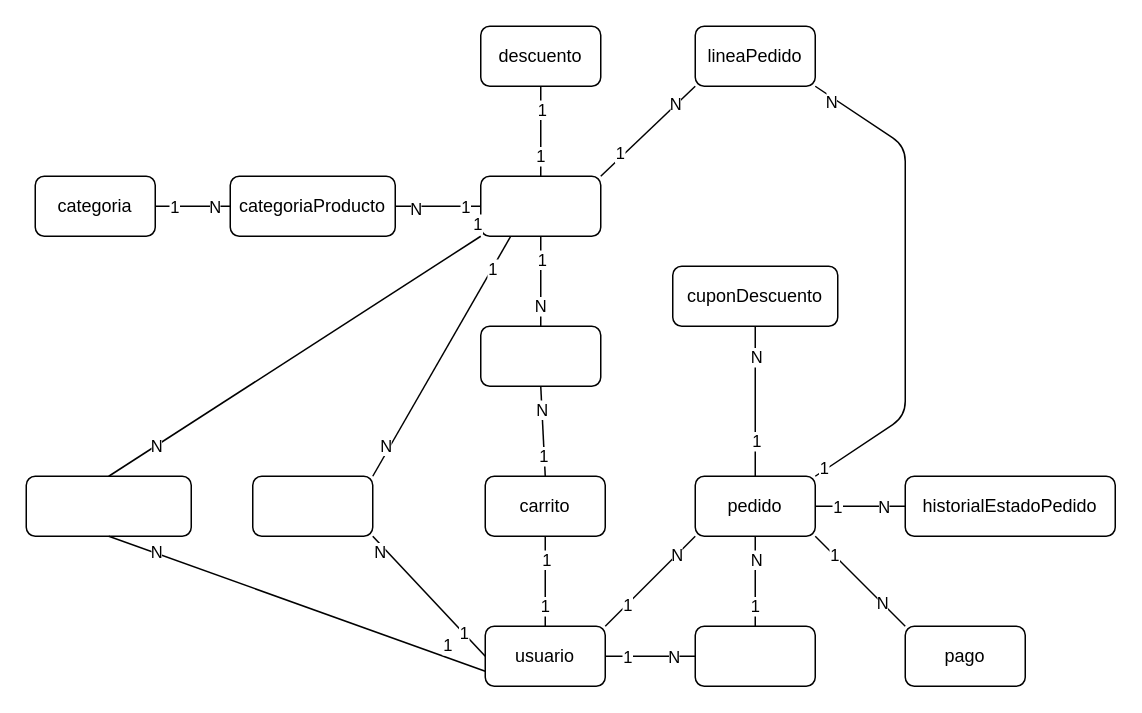
Some shapes in this 1142 by 713 pixel diagram are drawn without their labels. The centre of each missing label's shape, as x and y in pixels:
direccion: (x=754, y=655)
lineaCarrito: (x=540, y=355)
movimientoStock: (x=108, y=505)
producto: (x=540, y=205)
resenia: (x=312, y=505)
